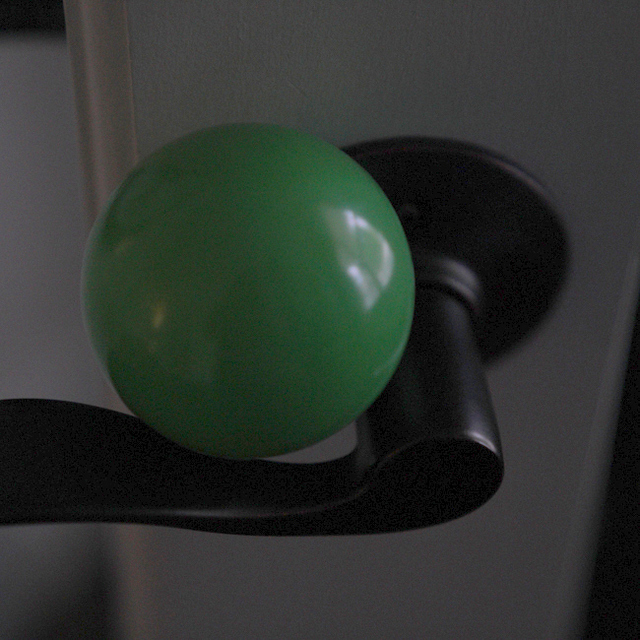Ball: (84, 127, 418, 456)
